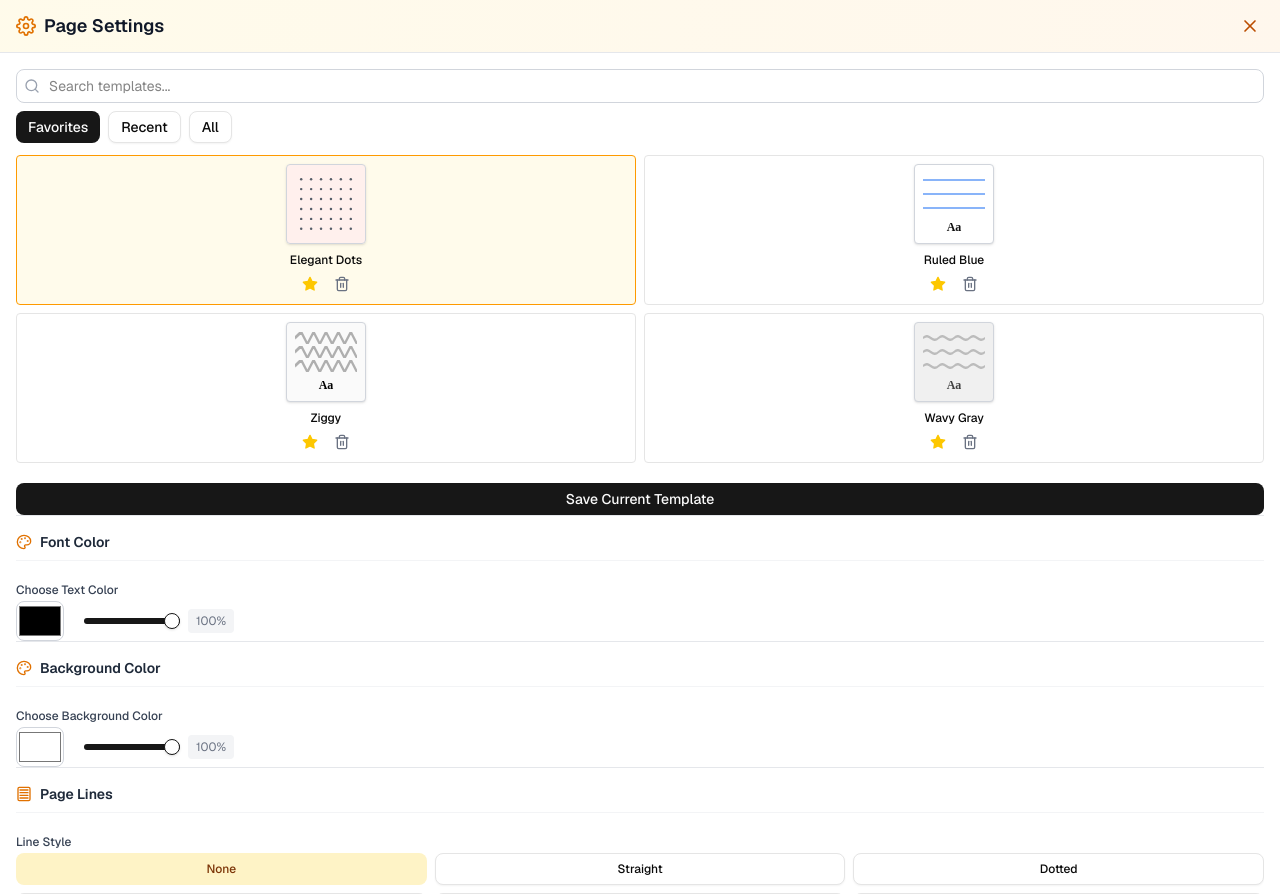
TemplateSidePanel (integration) › tab switching: Recent → includes non-favorite "Minimal"
Click the button "Recent": (144, 127) top-left (108, 111), bottom-right (181, 143)
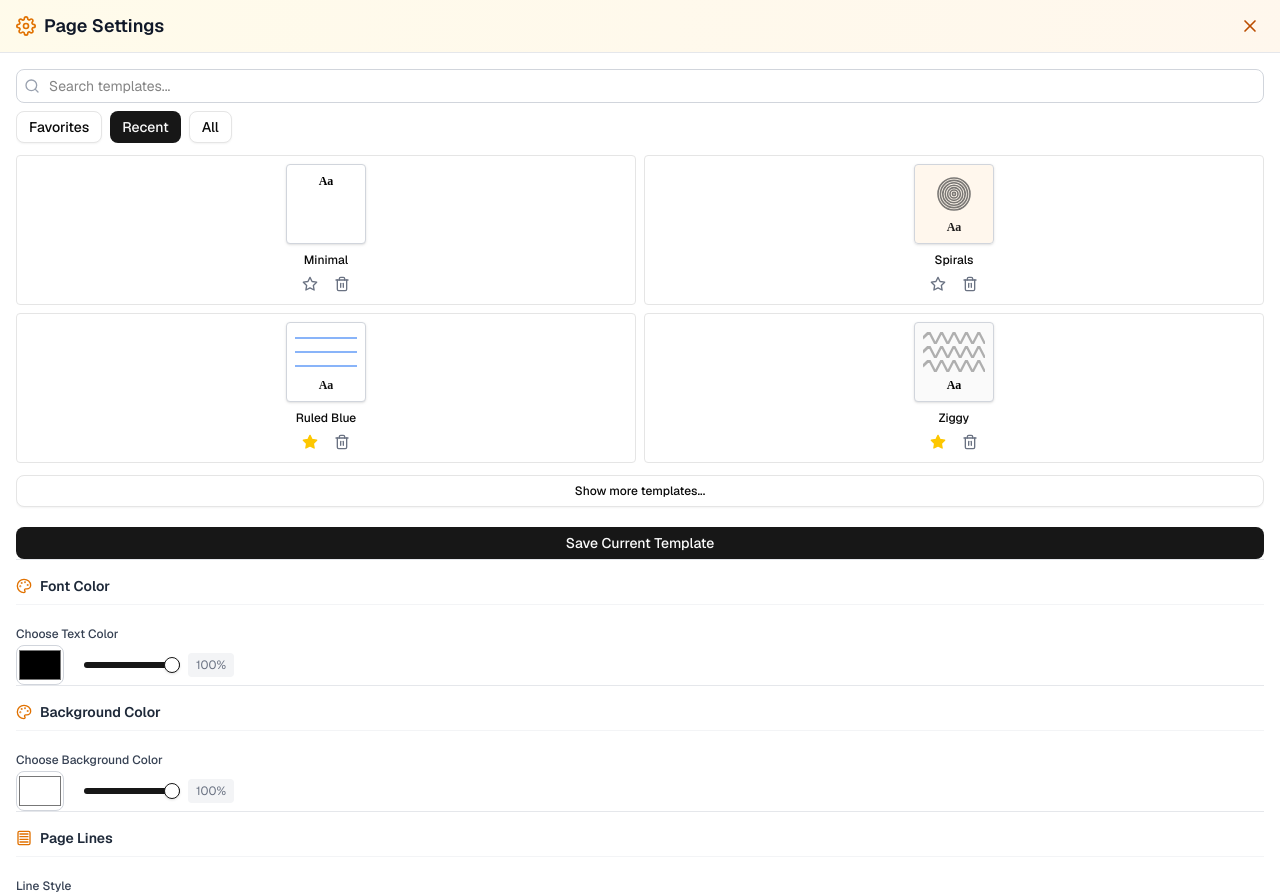
expect the text "Minimal" is shown: met, box top-left (304, 252), bottom-right (348, 268)
